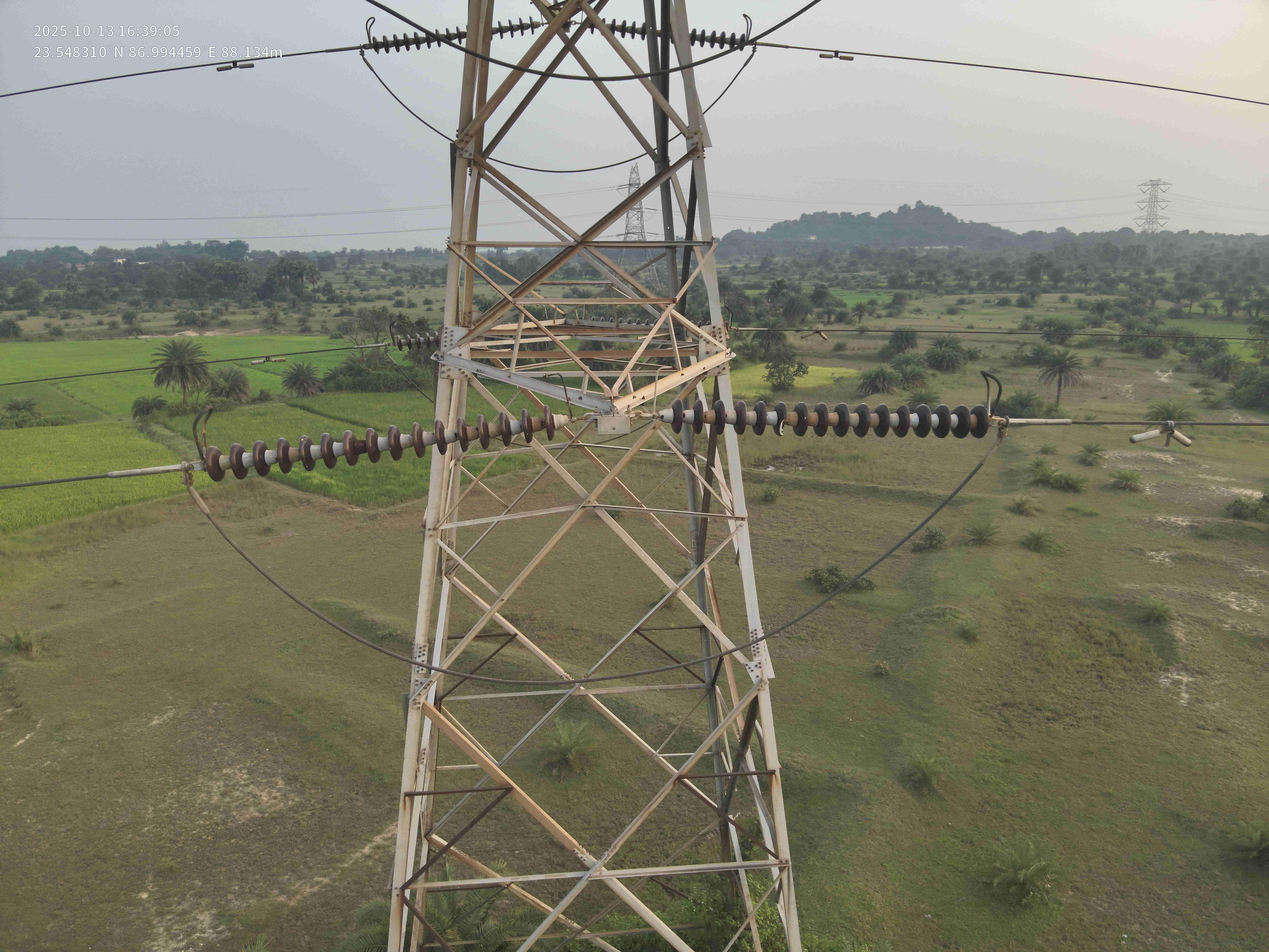broken_insulator: (772, 400, 793, 439), (371, 36, 380, 56)
